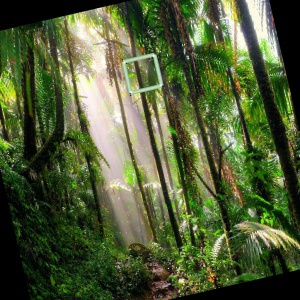square: (120, 52, 166, 94)
